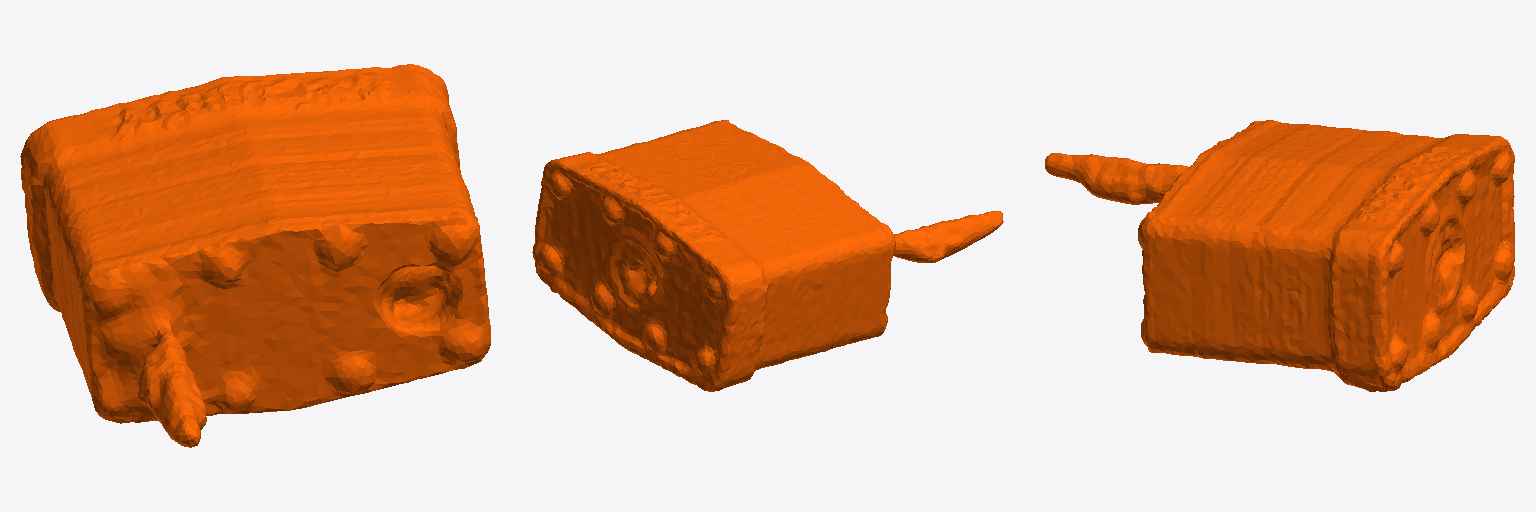
robot.urdf — 038_padlock:
<?xml version="1.0" ?>
<robot name="038_padlock">
   <material name="obj_color">
      <color rgba="1.0 0.423529411765 0.0392156862745 1.0"/>
   </material>
   <link name="top">
      <inertial>
         <origin rpy="1.64829757420874e-05 2.239545754179245e-05 3.035037187783422e-05" xyz="0.0003276432099359369 0.0008672980758853945 -0.001445608449880895"/>
         <mass value="0.08957592323135355"/>
         <inertia ixx="1.686859282680825e-05" ixy="1.144507614537617e-06" ixz="-1.435755210717681e-06" iyy="2.216276118192763e-05" iyz="1.096271711675967e-07" izz="3.019745115297819e-05"/>
      </inertial>
      <visual>
         <origin rpy="0 0 0" xyz="0 0 0"/>
         <geometry>
            <mesh filename="top_watertight_tiny.stl" scale="1 1 1"/>
         </geometry>
         <material name="obj_color"/>
      </visual>
      <collision>
         <origin rpy="0 0 0" xyz="0 0 0"/>
         <geometry>
            <mesh filename="top_watertight_tiny.obj" scale="1 1 1"/>
         </geometry>
      </collision>
   </link>
   <link name="bottom">
      <inertial>
         <origin rpy="1.633333333199431e-08 1.633333333199431e-08 1.633333333362855e-08" xyz="0.3464080000000008 0.3464080000000008 0.3464080000000008"/>
         <mass value="0.0009800000000000017"/>
         <inertia ixx="1.633333333253906e-08" ixy="5.447480642029219e-19" ixz="5.447480642029219e-19" iyy="1.633333333253906e-08" iyz="5.447480642029219e-19" izz="1.633333333253906e-08"/>
      </inertial>
      <visual>
         <origin rpy="0 0 0" xyz="0 0 0"/>
         <geometry>
            <mesh filename="bottom_watertight_tiny.stl" scale="1 1 1"/>
         </geometry>
         <material name="obj_color"/>
      </visual>
   </link>
   <joint name="rotation" type="revolute">
      <origin xyz="0 0 0"/>
      <axis xyz="0 0 -1"/>
      <parent link="bottom"/>
      <child link="top"/>
      <dynamics damping="1.0" friction="1.0"/>
      <limit effort="0.1" velocity="0.1" lower="0" upper="0.001"/>
   </joint>
</robot>

--- What the picture shows (computed from the rendered views, not written in the file) ---
The picture shows the robot from 3 angles, left to right: view 1: azimuth 30°, elevation 25°; view 2: azimuth 150°, elevation 25°; view 3: azimuth 270°, elevation 25°; orthographic projection.
Model 038_padlock with 2 links and 1 joints (1 revolute), rooted at bottom, posed all joints at 0.
Links seen in each view (by area): view 1: top; view 2: top; view 3: top.
Link boxes in pixels (x1,y1,x2,y2): top: [20, 64, 490, 447]; top: [532, 120, 1003, 391]; top: [1045, 120, 1514, 391].
Size in the robot's own frame: 0.067 by 0.0681 by 0.0291 metres.
1 mesh visuals loaded from 2 distinct referenced files (1 binary STL); not drawn: 1 (reference not matched to a file when rendering).
